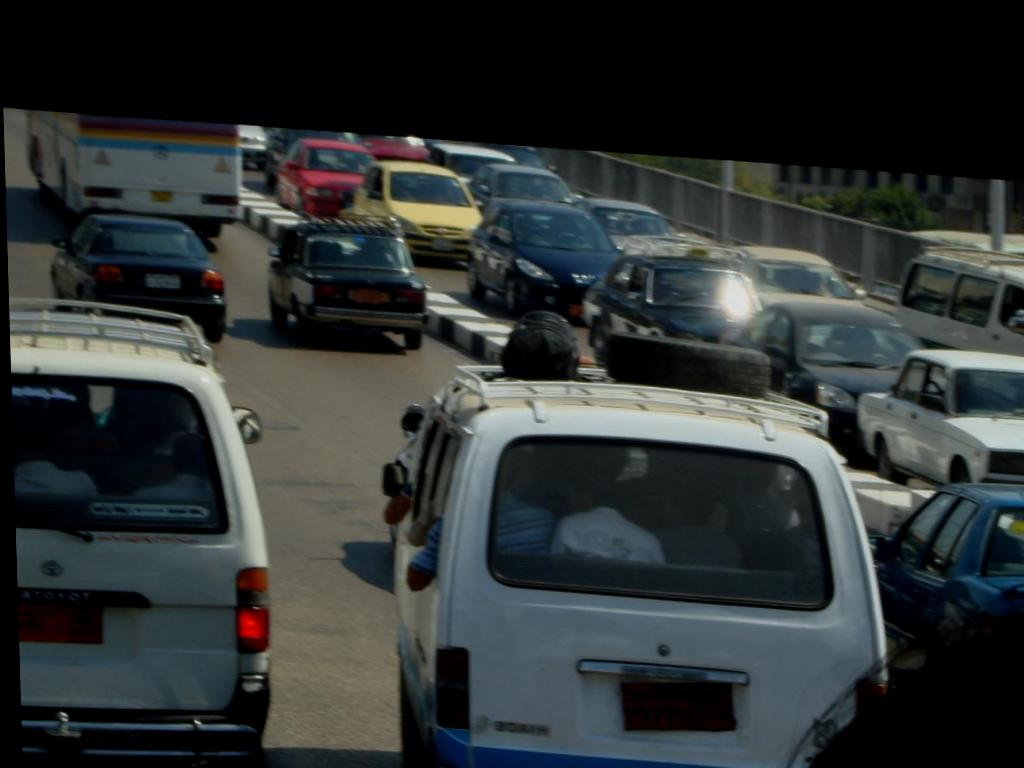License_Plate: (616, 676, 735, 736), (18, 587, 103, 648), (147, 267, 188, 294), (352, 287, 388, 303)
